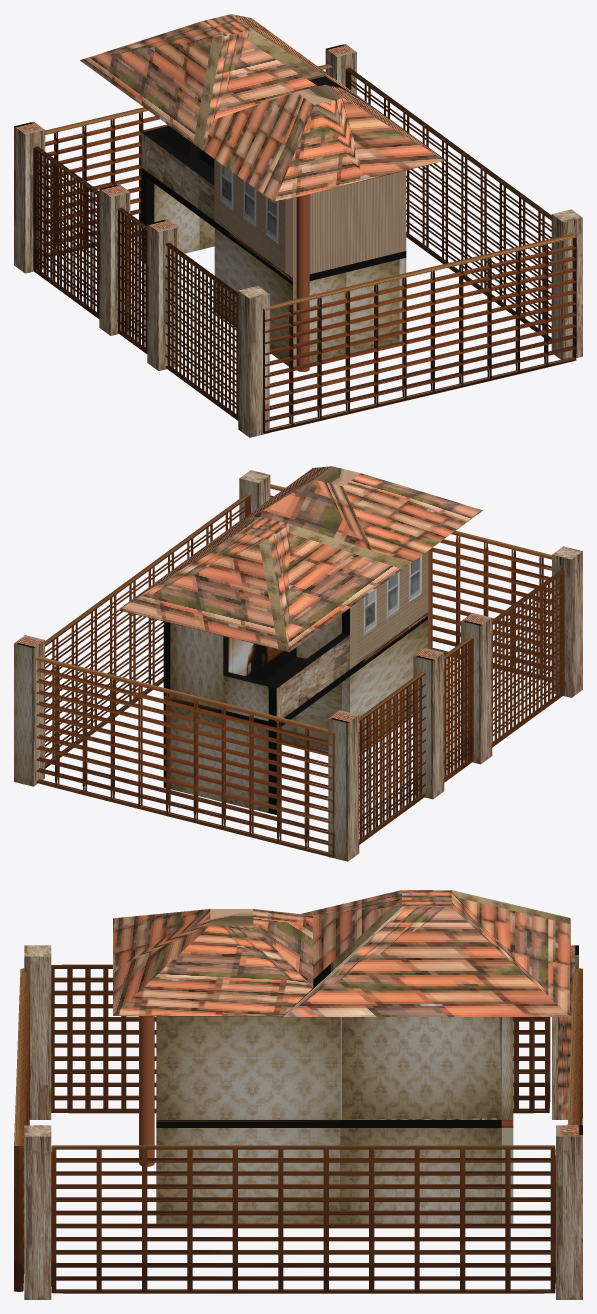
Rendered from old house 2.fbx.
3 views of the same model, one above another, from view 1: azimuth 30°, elevation 25°; view 2: azimuth 150°, elevation 25°; view 3: azimuth 270°, elevation 25° (orthographic). The views are drawn at different scales.
Parts seen in each view (by area): view 1: Cube.003, Cube, Cube.013, Cube.001, Cylinder; view 2: Cube.003, Cube, Cube.001, Cube.013; view 3: Cube, Cube.003, Cube.001, Cube.013, Cylinder.
Boxes of the visible parts, bbox=[...] form: Cube.003: bbox=[33, 64, 576, 433]; Cube: bbox=[141, 84, 445, 366]; Cube.013: bbox=[14, 44, 582, 437]; Cube.001: bbox=[80, 14, 373, 149]; Cylinder: bbox=[296, 194, 309, 371]; Cube.003: bbox=[36, 484, 564, 857]; Cube: bbox=[163, 466, 482, 814]; Cube.001: bbox=[118, 517, 410, 651]; Cube.013: bbox=[14, 470, 582, 861]; Cube: bbox=[113, 909, 513, 1223]; Cube.003: bbox=[14, 964, 582, 1293]; Cube.001: bbox=[283, 890, 570, 1016]; Cube.013: bbox=[24, 945, 582, 1299]; Cylinder: bbox=[139, 1016, 154, 1166].
Size of the model in its own units: 927 by 667 by 1166.
